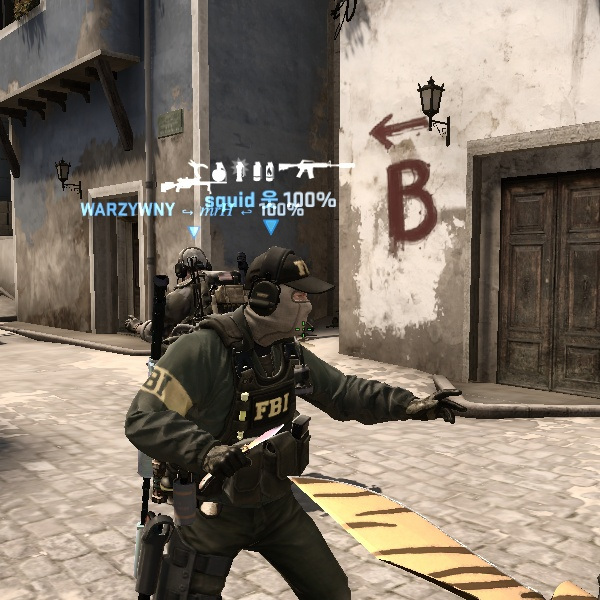ct_body: (98, 246, 390, 589)
ct_head: (221, 238, 337, 347)
